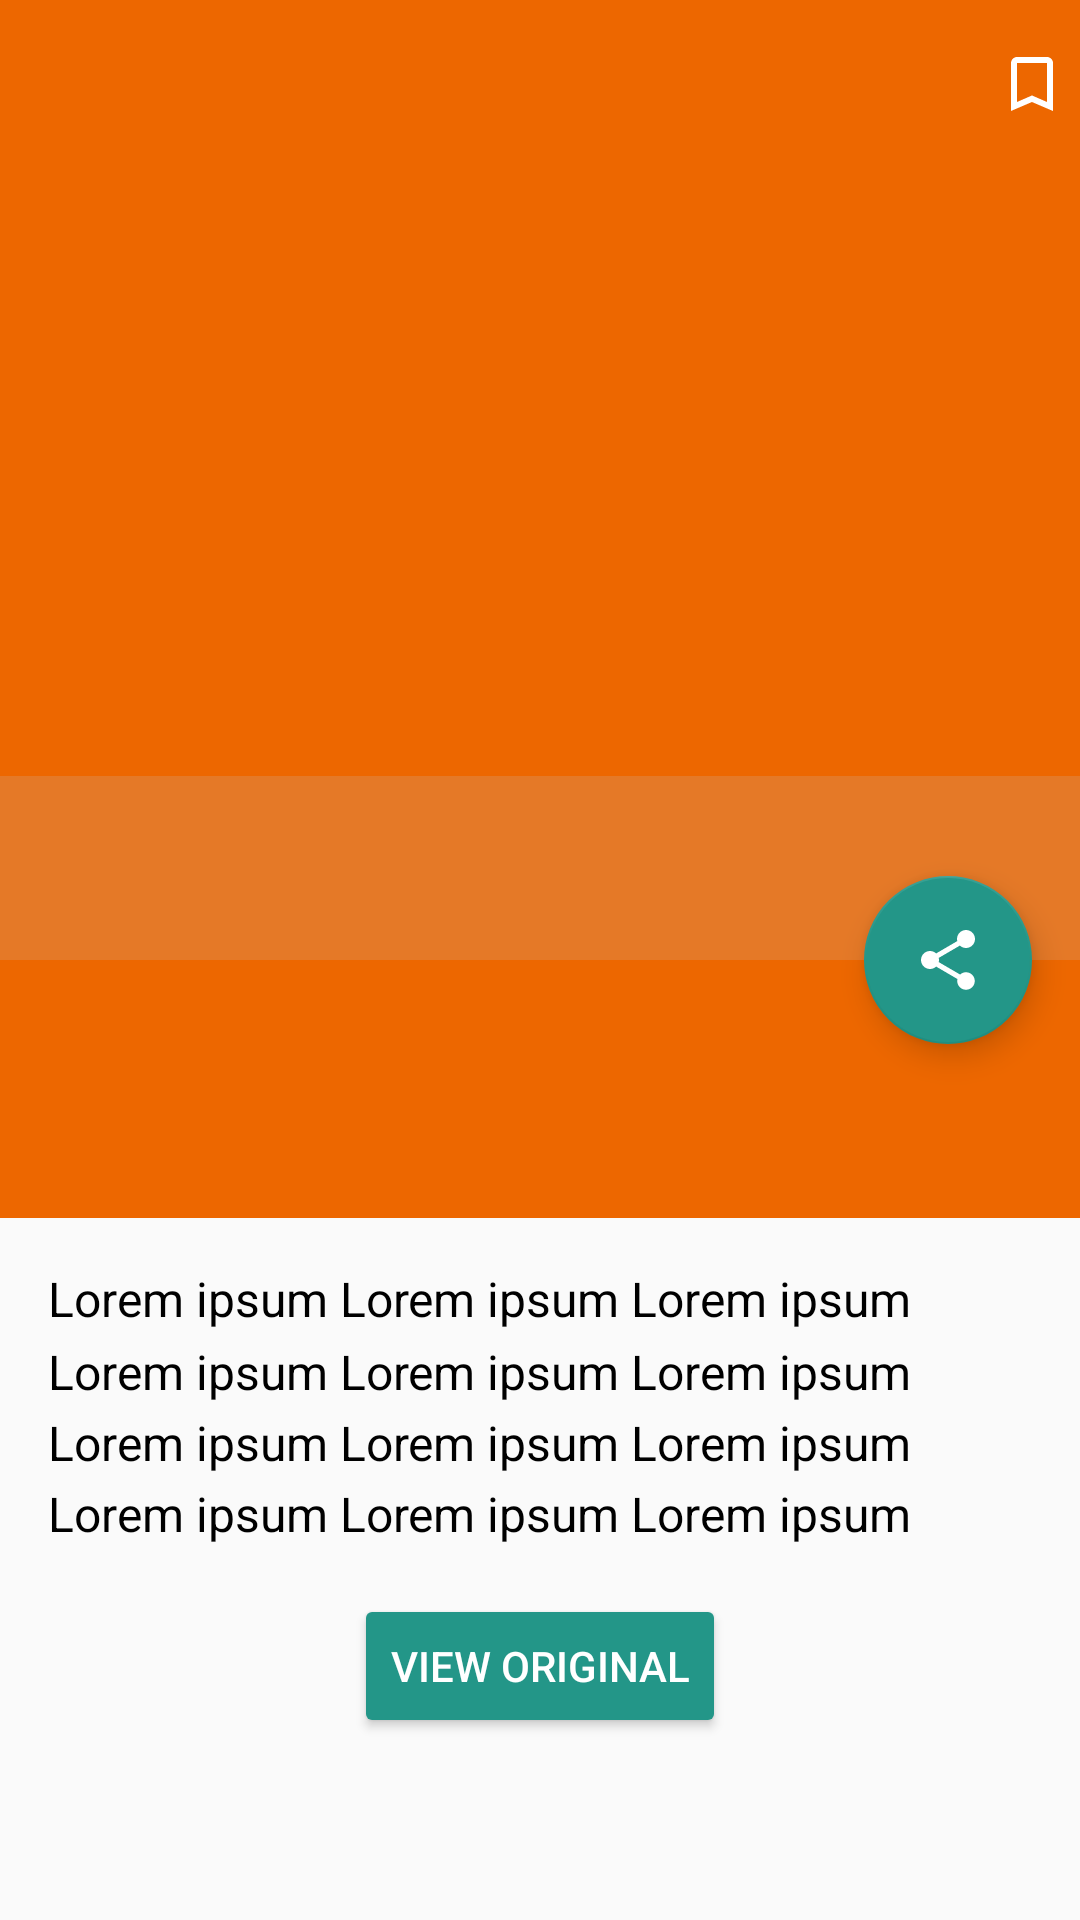

Point at icon controls on the screen. Image size 1080×1920, points as (x,y).
bookmark border: (1032,84)
share: (948,960)
